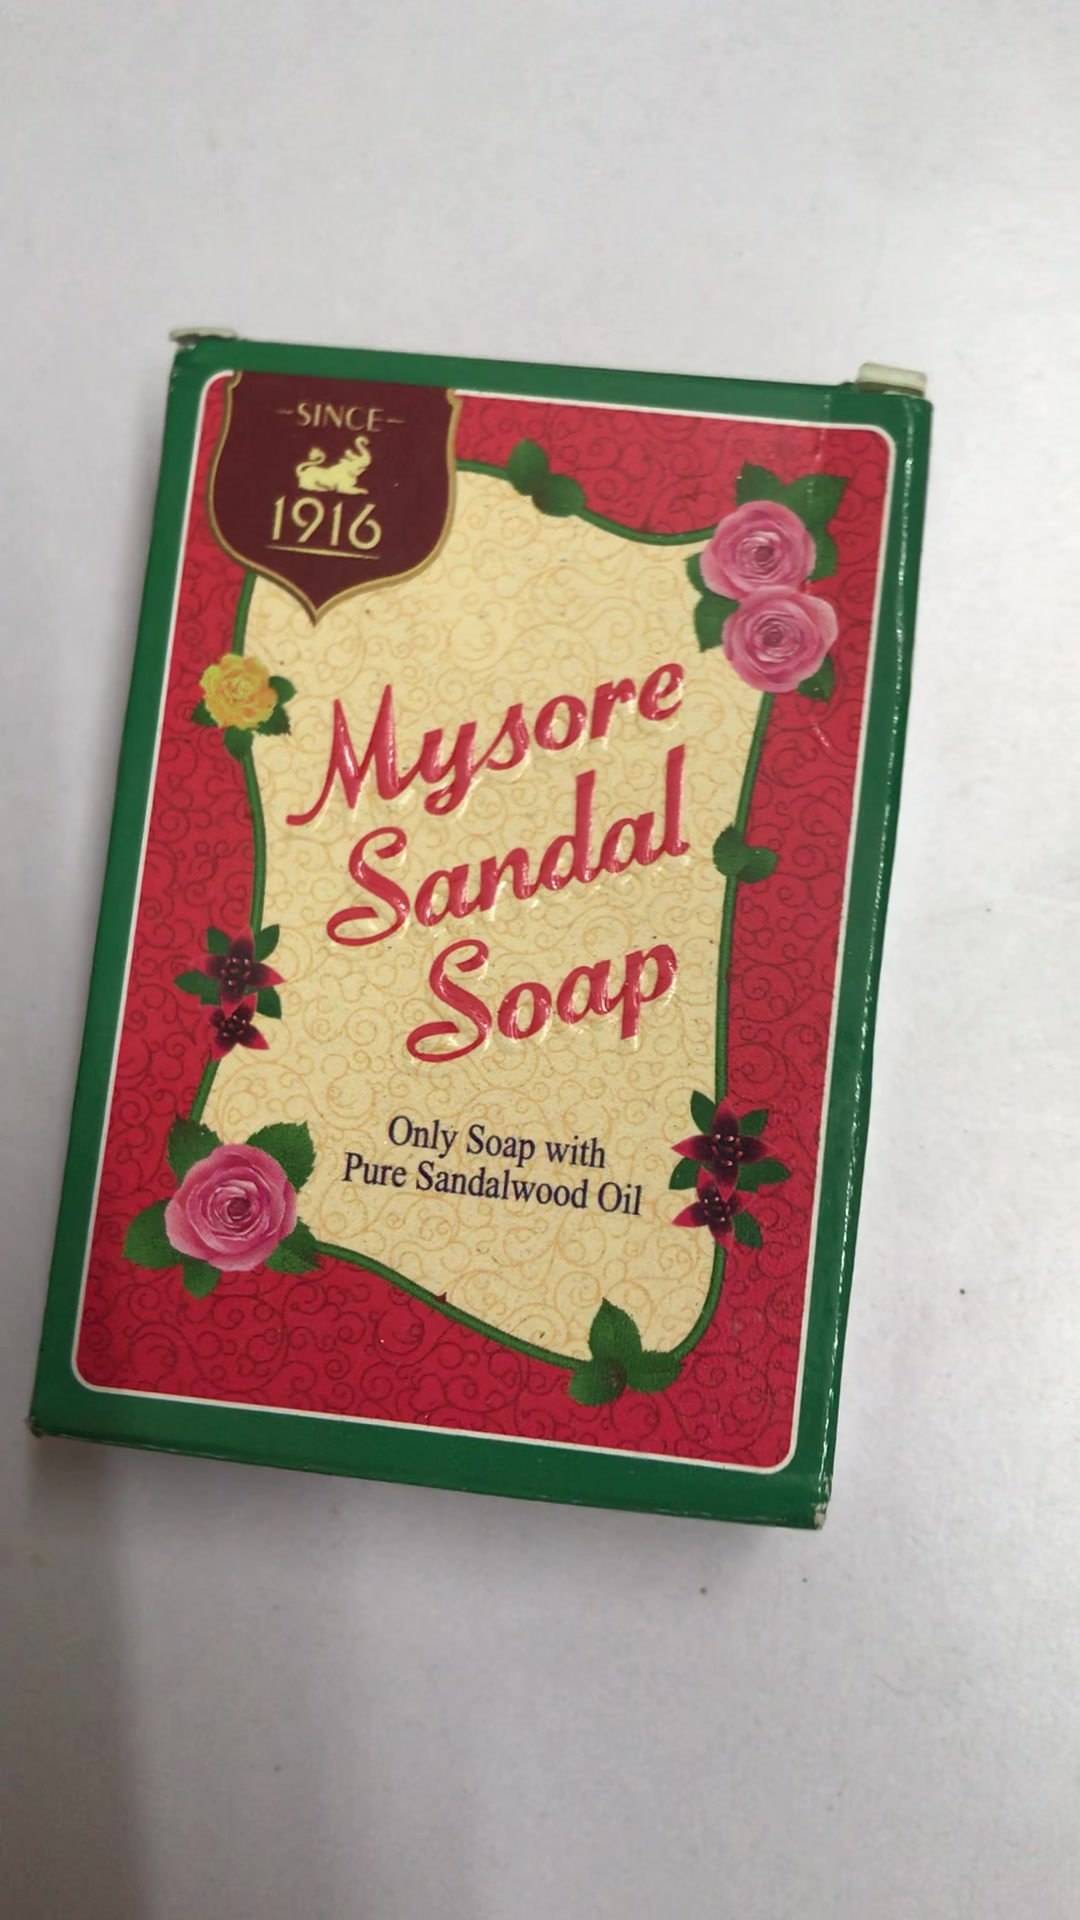mysore sandal soap: (26, 328, 932, 1536)
